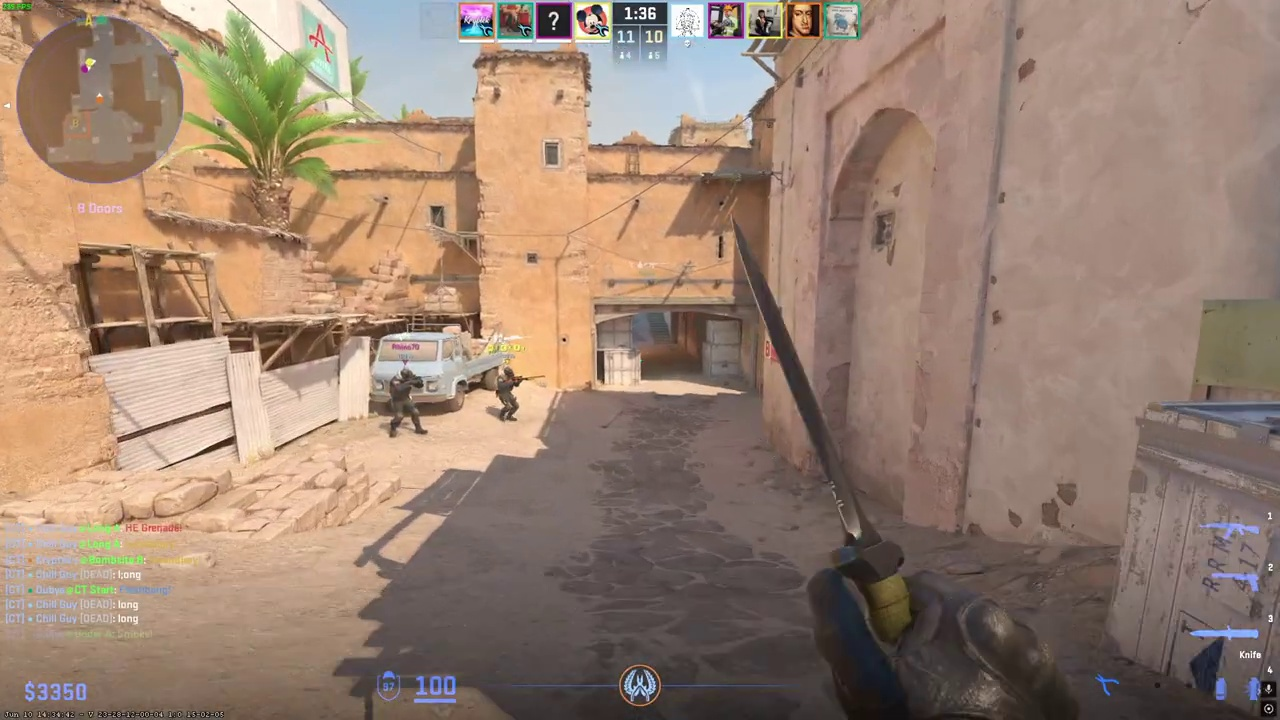CT: (387, 367, 425, 438), (496, 367, 521, 422)
